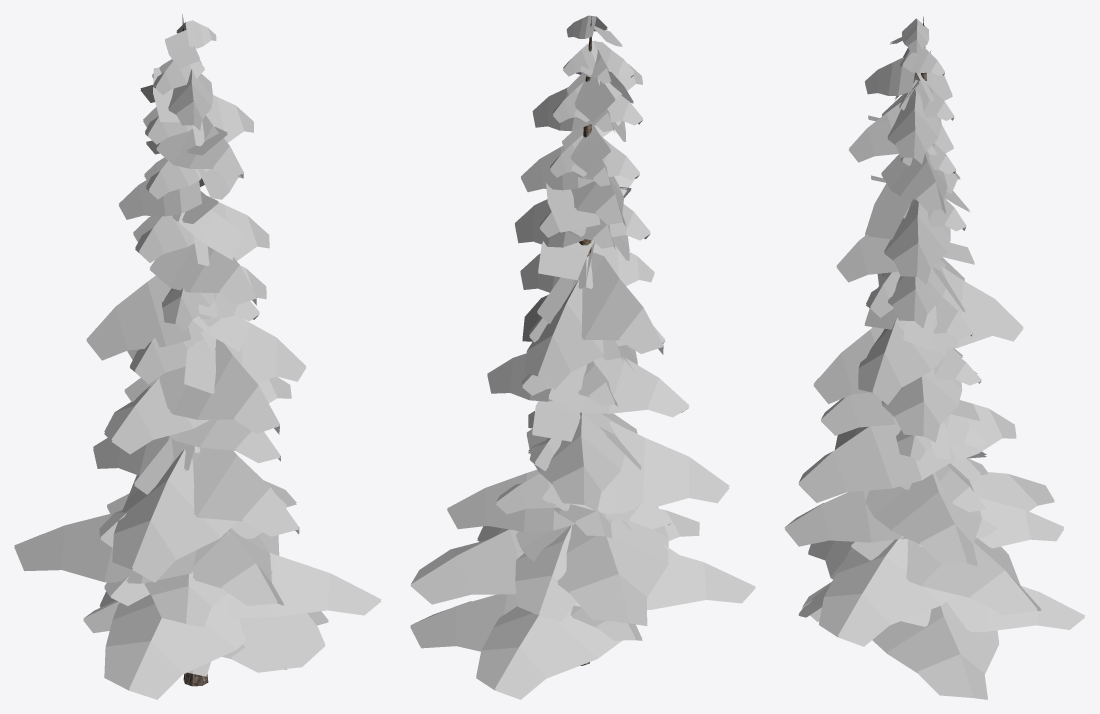
The model's file is Pine_002.fbx.
3 renders of one model, left to right at view 1: azimuth 30°, elevation 25°; view 2: azimuth 150°, elevation 25°; view 3: azimuth 270°, elevation 25°, orthographic. The views are drawn at different scales.
Parts seen in each view (by area): view 1: Tree_Fir_Leaves2; view 2: Tree_Fir_Leaves2; view 3: Tree_Fir_Leaves2.
Boxes of the visible parts, x1,y1,x2,y2 form: Tree_Fir_Leaves2: [14, 20, 381, 699]; Tree_Fir_Leaves2: [410, 15, 755, 699]; Tree_Fir_Leaves2: [784, 18, 1084, 699].
Bounding box in the file's own units: 952 × 2199 × 955.
